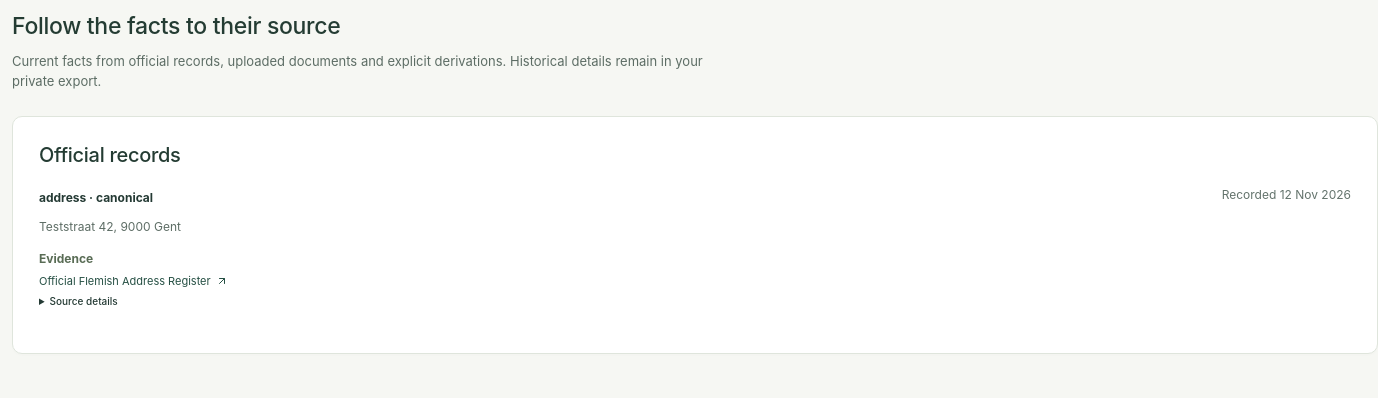
it: opened Evidence details ignore secrets, raw JSON, filesystem/storage keys and URI identifiers
Step 1. Click the heading "Source details" → [84, 301], box [50,295,118,307]
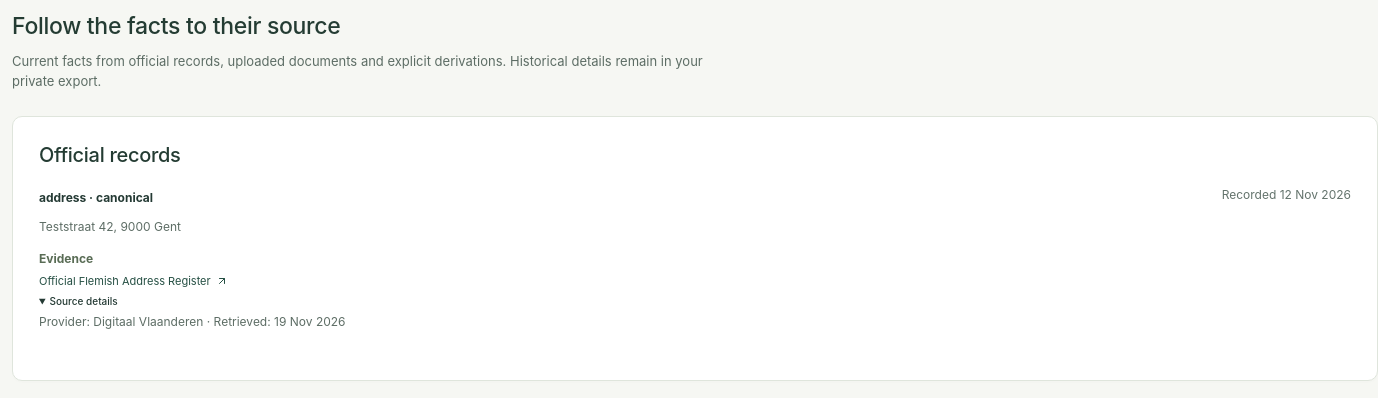
Now the text "Provider: Digitaal Vlaanderen" is shown, box [39,314,203,330]
